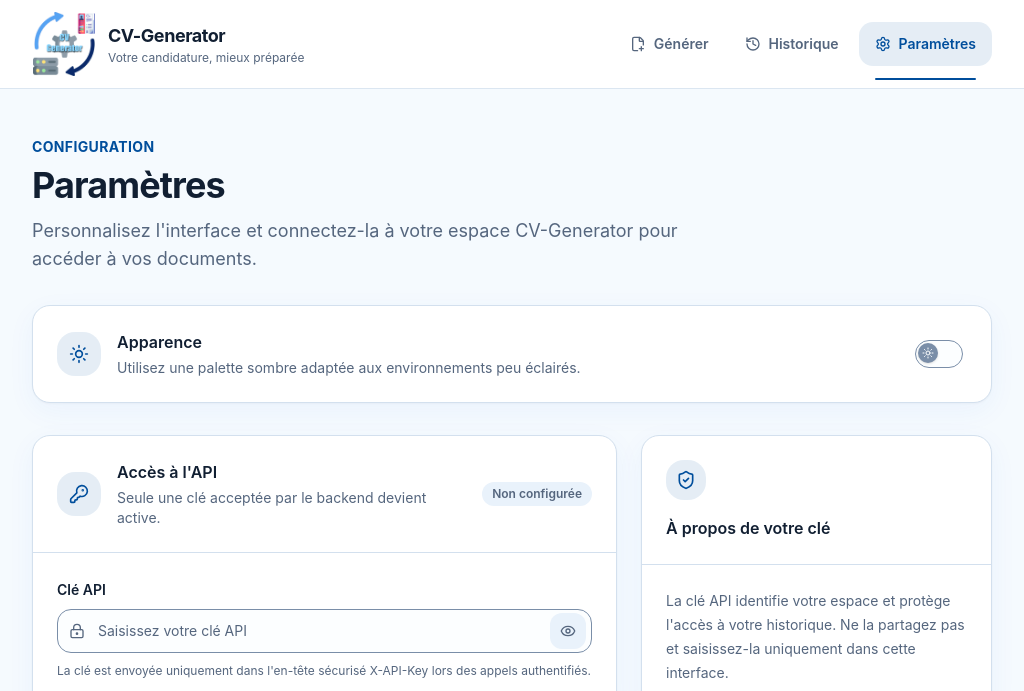
Test: configuration de la clé API › valide une clé et la conserve par défaut dans sessionStorage
Type "cle-session" into the password field labelled "Clé API".
click(324, 631); type("cle-session")  # box [57,609,592,653]
(page scrolled)
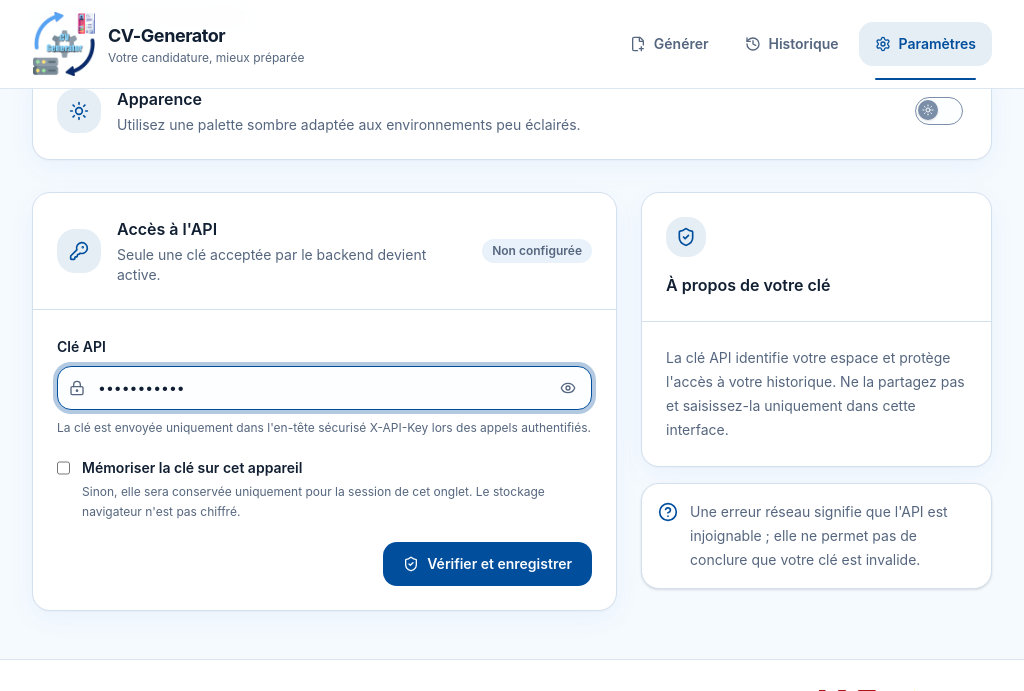
Click the button "Vérifier et enregistrer".
click(488, 564)  # box [383,542,592,586]
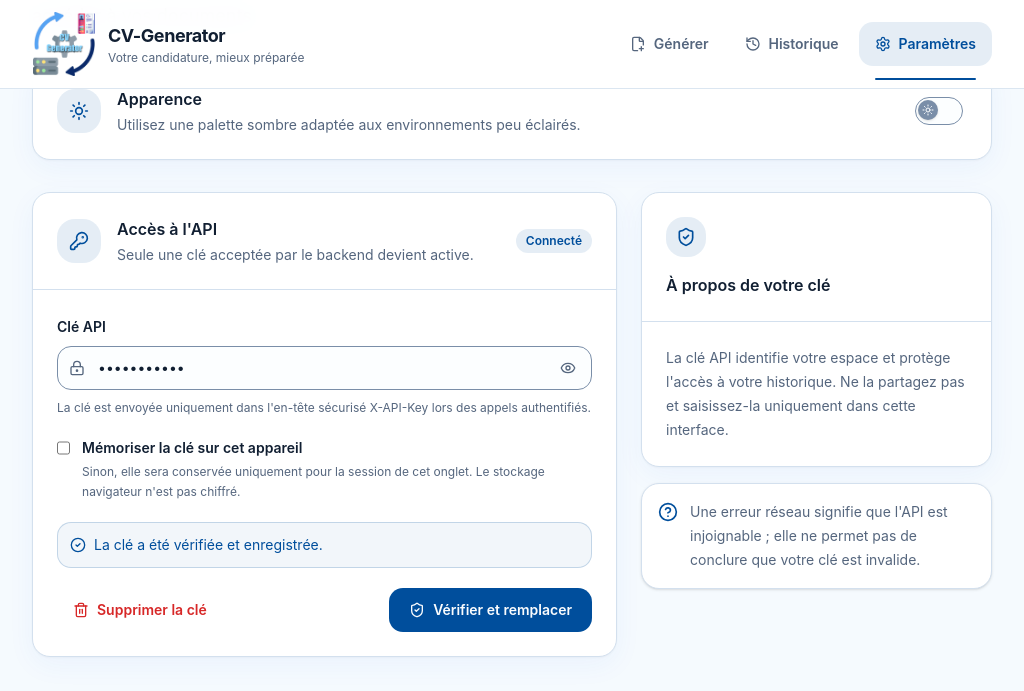
Check: the text "Connecté" is shown, box [516,229,592,253]
